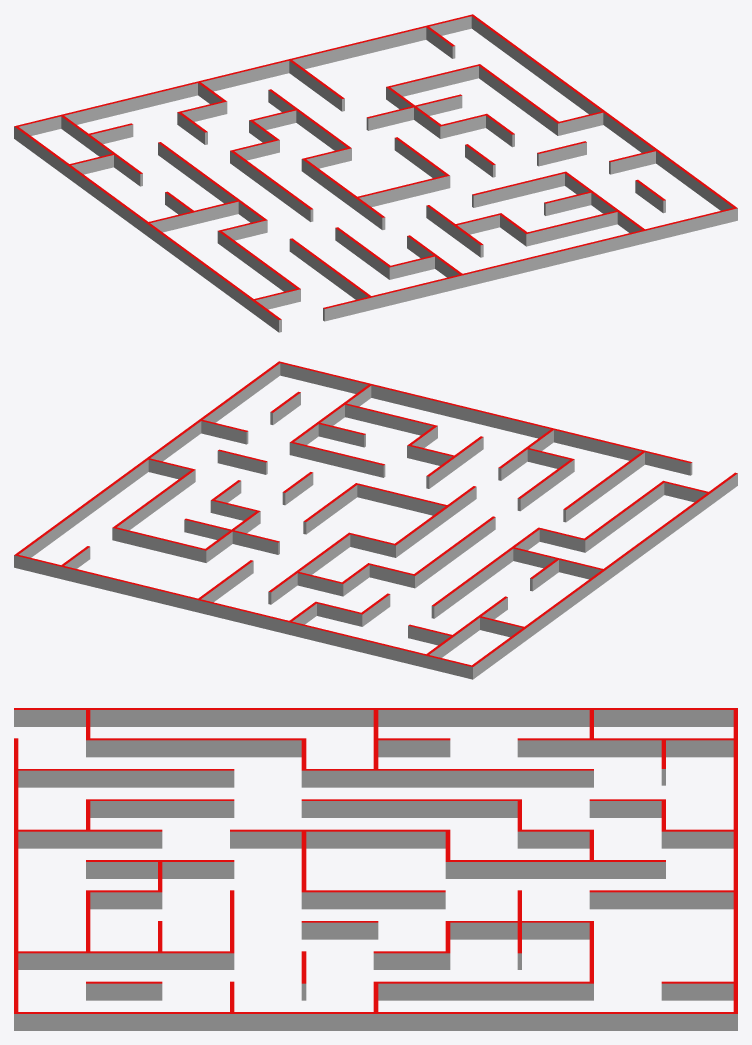
Rendered from minus_collision.dae.
3 renders of one model, top to bottom at view 1: azimuth 30°, elevation 25°; view 2: azimuth 150°, elevation 25°; view 3: azimuth 270°, elevation 25°, orthographic. The views are drawn at different scales.
Visible parts, largest first — view 1: Minus2; view 2: Minus2; view 3: Minus2.
Boxes of the visible parts, x1,y1,x2,y2 form: Minus2: (14, 14, 737, 332); Minus2: (14, 361, 737, 679); Minus2: (14, 708, 737, 1030).
Bounding box in the file's own units: 1.93 × 1.93 × 0.05.
